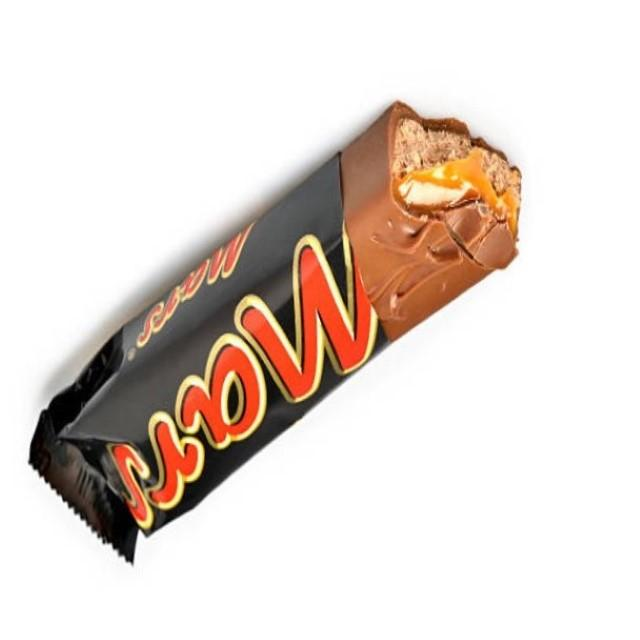mars_chocolate: (75, 175, 377, 548)
